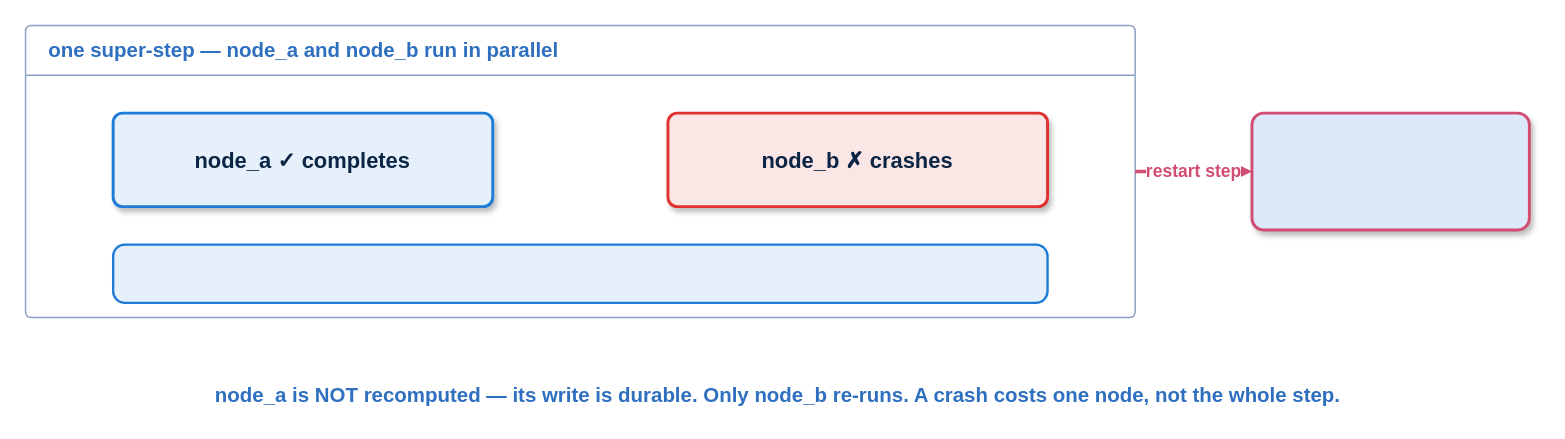
This 1565x439 diagram has some shape labels left out. Each missing label, with the centre of its shape:
"node_a's write saved as a PENDING WRITE (durable task entry)" belongs at pixel 579 273.
"On resume from the checkpoint" belongs at pixel 1391 173.
